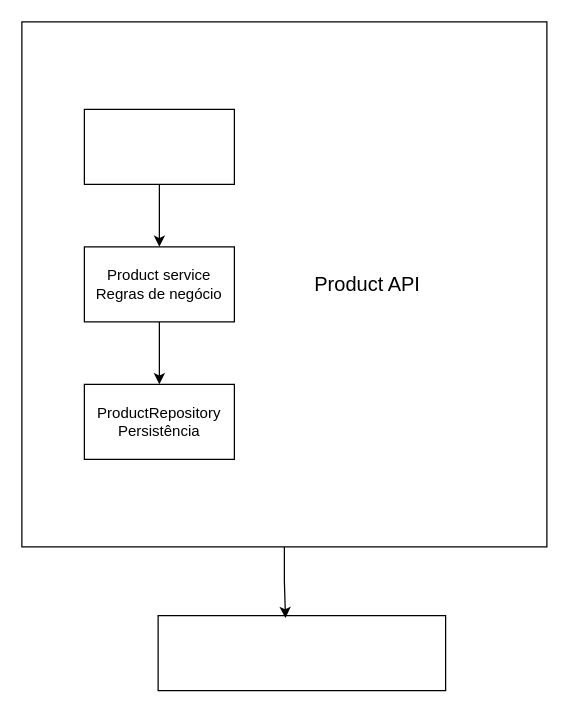
Image size: 569x713. Some labels were removed from this diagram. The shapes that lost their labels are listed below. From the top down, each one's centre as x and y in pixels, then its label:
At (x=158, y=146): "Product controller Rest / HTTP".
At (x=301, y=652): "PostgreSQL".
